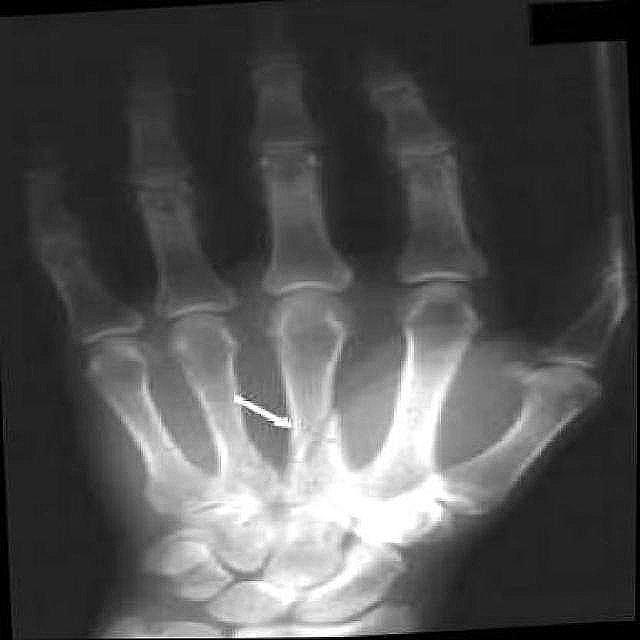bone: (282, 404, 340, 470)
